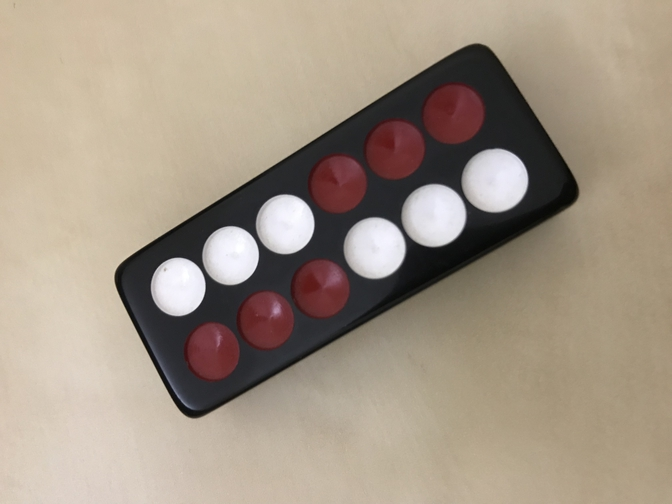heaven: (114, 43, 580, 419)
